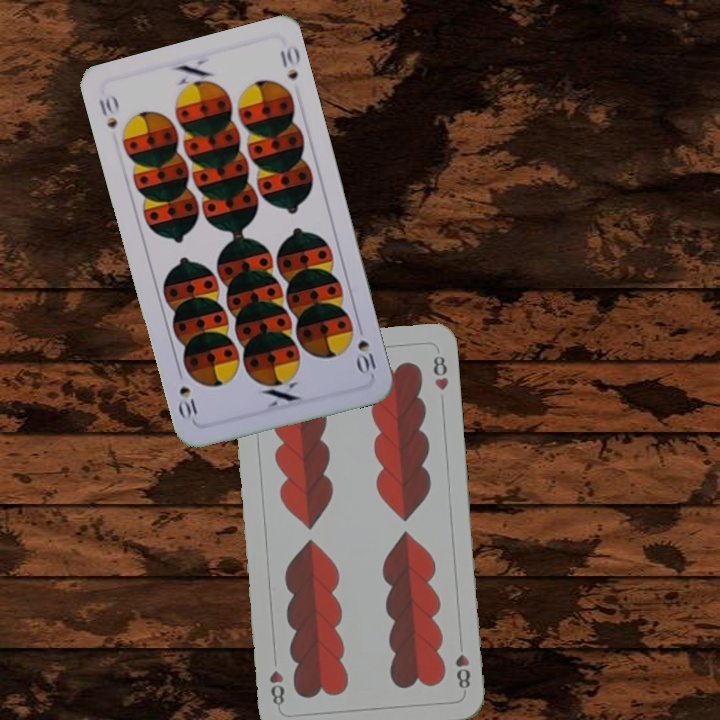H8: (451, 637, 473, 692)
S10: (352, 319, 380, 378), (95, 90, 122, 132)
